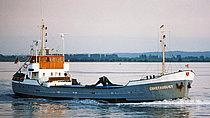Ship: (11, 15, 199, 106)
